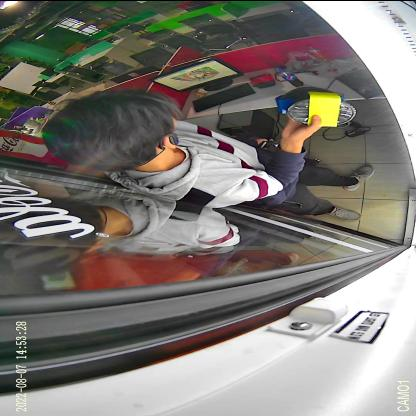blue: (275, 86, 345, 116)
yellow: (286, 90, 358, 126)
